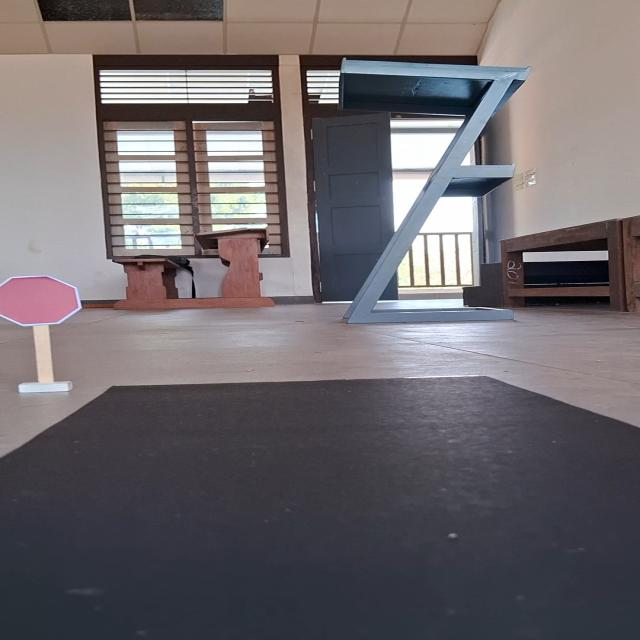Stop: (1, 273, 85, 329)
